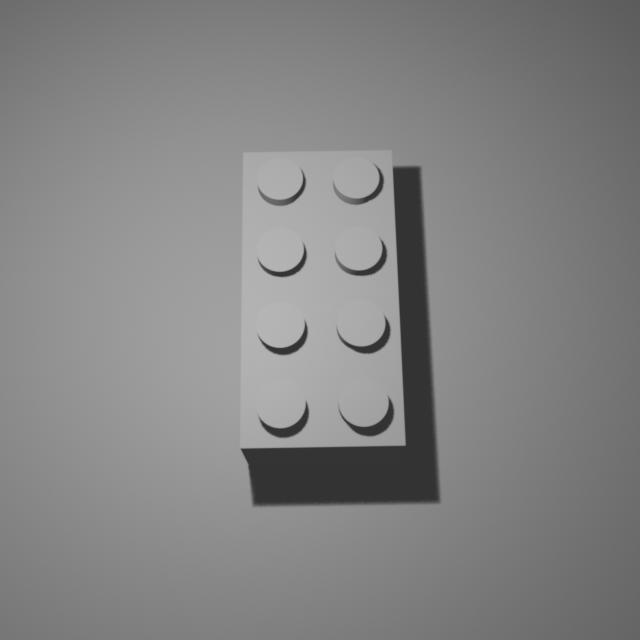lego_2x4: (239, 143, 407, 464)
